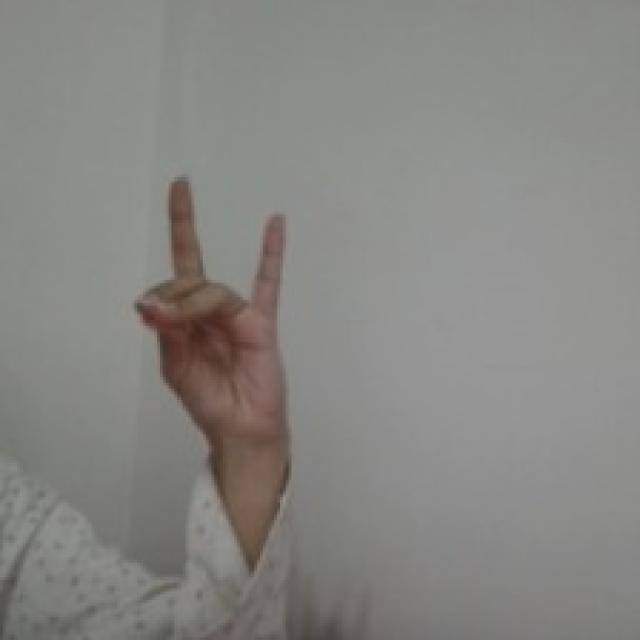Dog: (124, 168, 298, 452)
